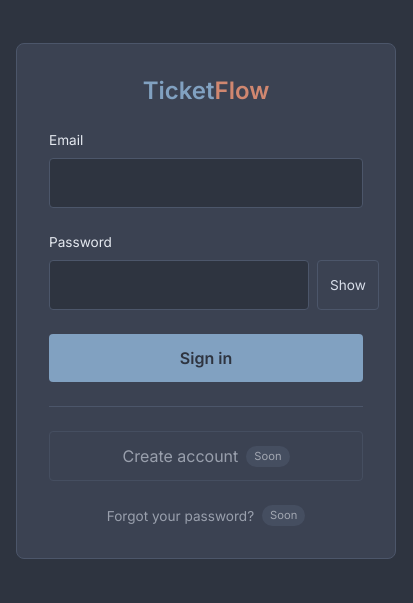
Scenario: LoginPage › no envía el formulario si los campos están vacíos, y muestra el error de validación
# intenta enviar el formulario vacío
Click the button "Sign in".
click(206, 358)  # box [49,334,363,382]
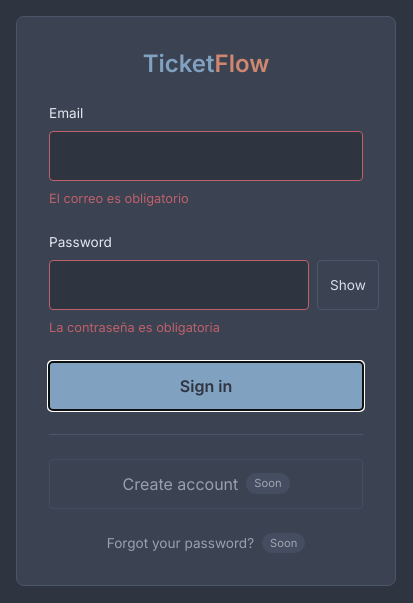
Expected: the text "El correo es obligatorio" is shown, [49,191,189,206]
Expected: the text "La contraseña es obligatoria" is shown, [49,320,220,336]
